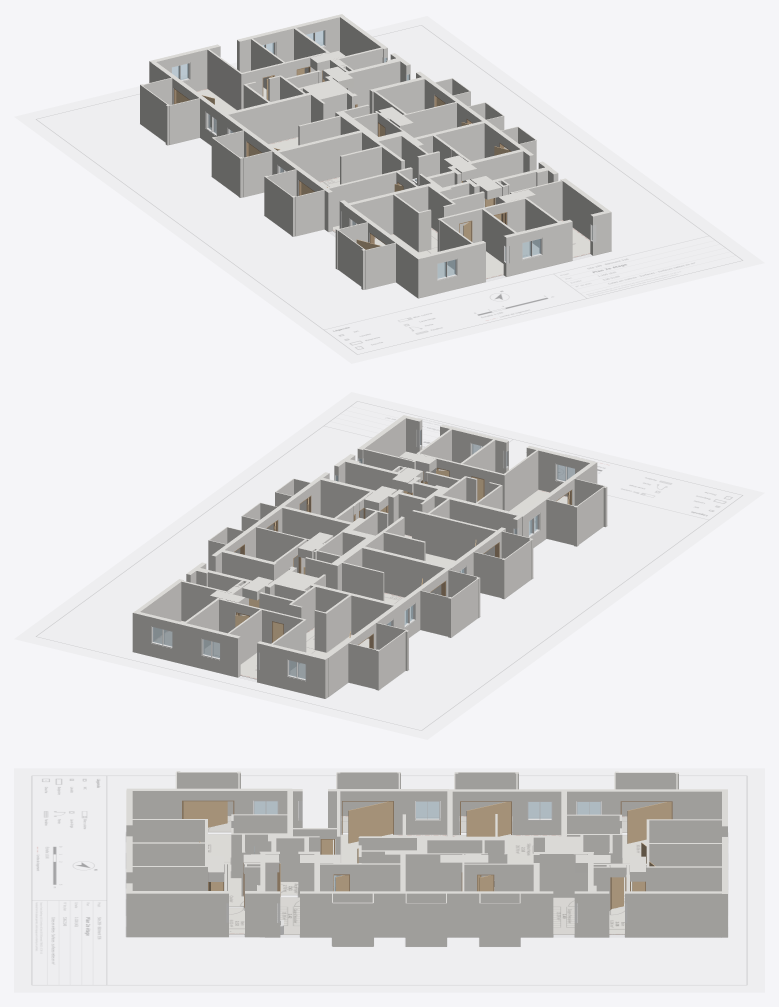
The picture shows the model from 3 angles, top to bottom: view 1: azimuth 30°, elevation 25°; view 2: azimuth 150°, elevation 25°; view 3: azimuth 270°, elevation 25°; orthographic projection. The views are drawn at different scales.
Visible parts, largest first — view 1: plan_floor, wall-12, wall-17, wall-7, wall-1, wall-21, wall-2, wall-24, wall-4, wall-3, wall-10, wall-27 (+17 smaller); view 2: plan_floor, wall-12, wall-17, wall-7, wall-24, wall-10, wall-4, wall-23, wall-1, wall-22, wall-21, wall-27 (+17 smaller); view 3: plan_floor, wall-12, wall-17, wall-7, wall-1, wall-24, wall-27, wall-25, wall-30, wall-28, wall-29, wall-2 (+47 smaller).
Part boxes in pixels (<box>): plan_floor: <box>15,16,763,363</box>; wall-12: <box>269,104,503,185</box>; wall-17: <box>217,70,357,143</box>; wall-7: <box>339,166,479,251</box>; wall-1: <box>510,178,611,255</box>; wall-21: <box>188,44,262,110</box>; wall-2: <box>506,197,572,267</box>; wall-24: <box>324,14,387,69</box>; wall-4: <box>437,214,485,288</box>; wall-3: <box>471,205,522,276</box>; wall-10: <box>322,167,412,231</box>; wall-27: <box>369,71,437,113</box>; plan_floor: <box>15,392,763,739</box>; wall-12: <box>274,494,455,600</box>; wall-17: <box>259,566,404,652</box>; wall-7: <box>388,476,528,537</box>; wall-24: <box>132,579,234,656</box>; wall-10: <box>412,510,505,560</box>; wall-4: <box>484,445,557,511</box>; wall-23: <box>173,598,236,668</box>; wall-1: <box>357,415,422,470</box>; wall-22: <box>220,606,272,677</box>; wall-21: <box>257,614,306,689</box>; wall-27: <box>211,542,293,580</box>; plan_floor: <box>14,768,764,992</box>; wall-12: <box>350,789,507,937</box>; wall-17: <box>533,789,622,897</box>; wall-7: <box>231,788,320,897</box>; wall-1: <box>126,863,228,937</box>; wall-24: <box>625,863,727,937</box>; wall-27: <box>494,863,553,937</box>; wall-25: <box>574,863,610,937</box>; wall-30: <box>244,862,280,937</box>; wall-28: <box>440,862,488,937</box>; wall-29: <box>300,863,340,937</box>; wall-2: <box>126,856,207,890</box>.
Size of the model in its own units: 29.7 by 2.7 by 42.01.
9 materials, 1 textured.
